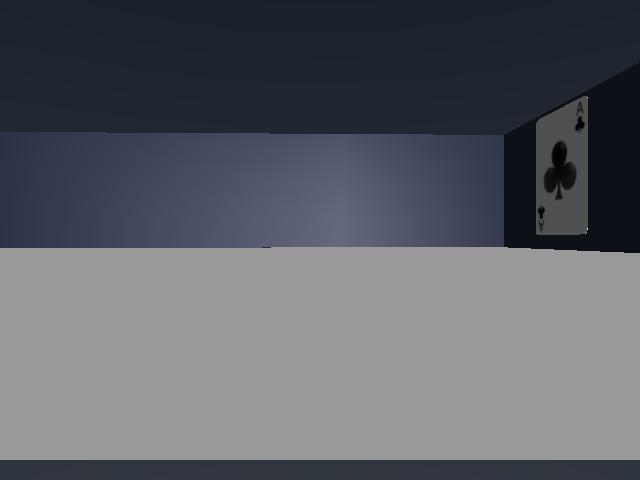club: (536, 97, 588, 235)
